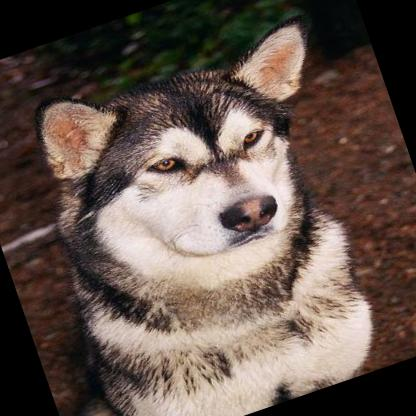malamute: (0, 16, 414, 416)
